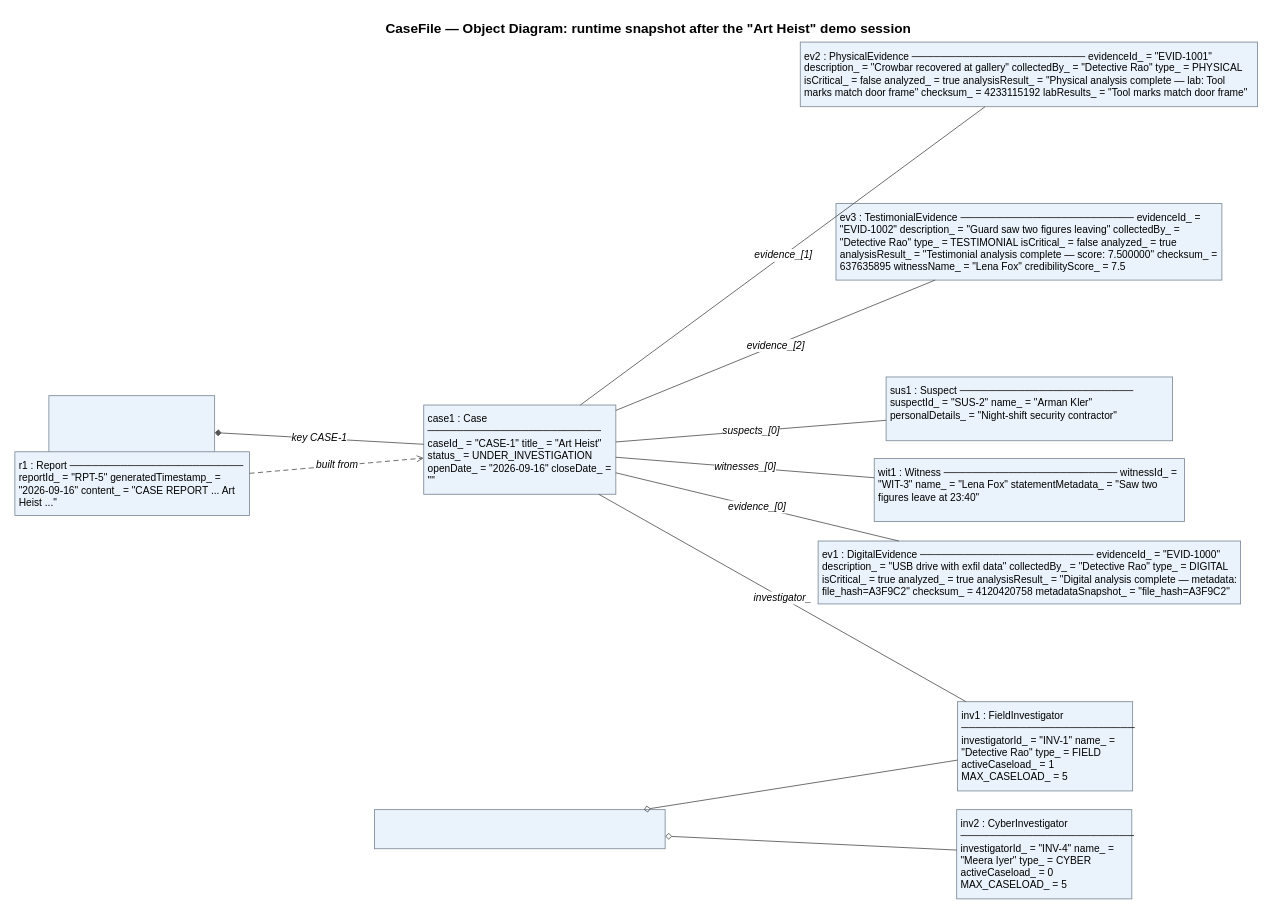
Image size: 1272x914. Some labels were removed from this diagram. Each missing label, with the centre of its shape:
g_cases : map<string, Case> size = 1: the point at 131,427
g_investigators : vector<shared_ptr<Investigator>> size = 2: the point at 519,829
